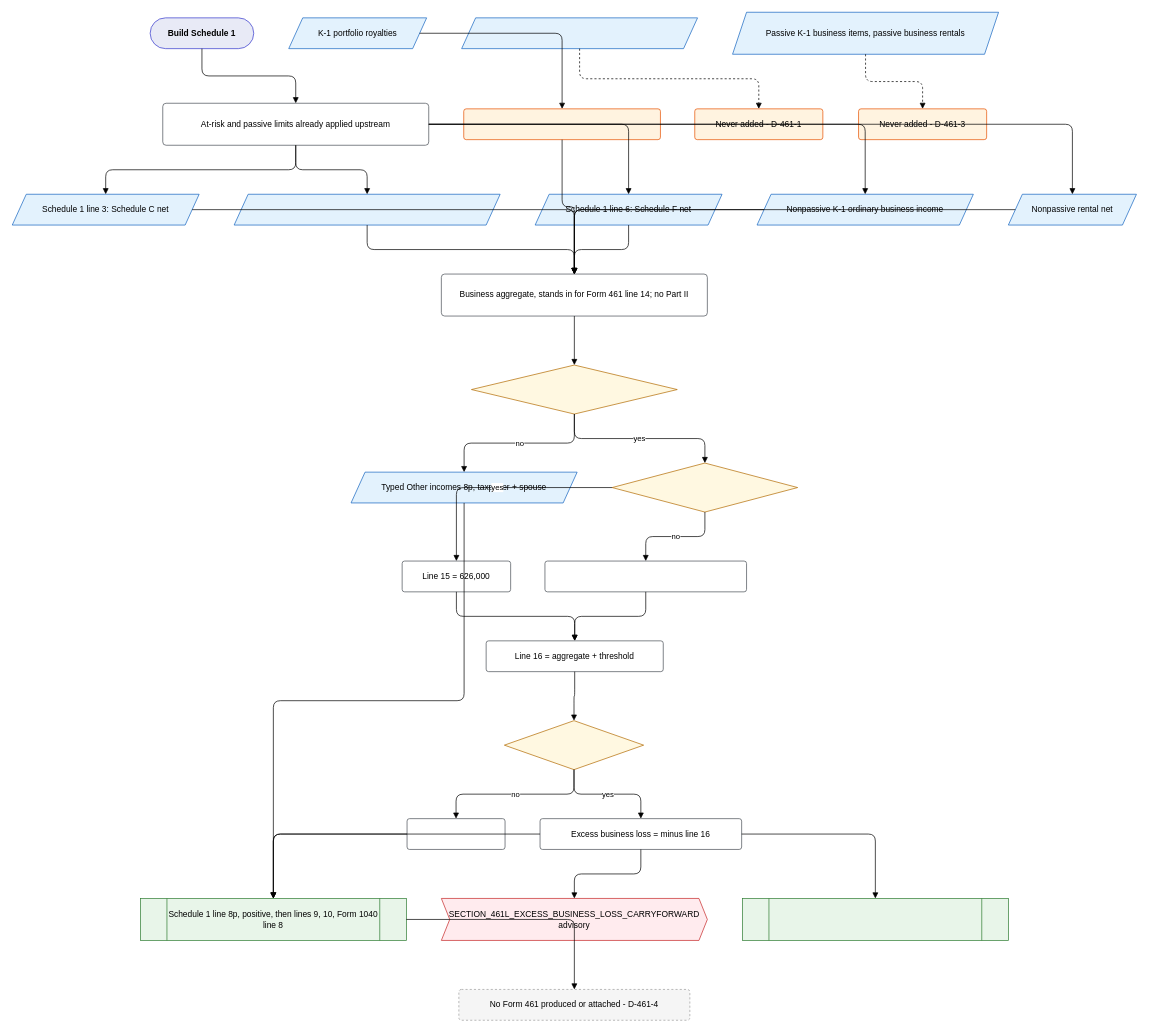
The diagram is 1149 pixels wide and 1033 high, and some of its shapes have lost their labels. The centre of each missing label's shape, as x and y in pixels:
"Added with the K-1 amount - D-461-2" goes at point (561, 124).
"Any business item present?" goes at point (574, 389).
"Form 1040 line 7a incl. business 1231 gains" goes at point (579, 33).
"Form 172: added to nolCarryforwardToNextYear, next year's line 8a" goes at point (875, 919).
"Line 15 = 313,000, incl. MFS and QSS" goes at point (645, 576).
"Line 16 below 0?" goes at point (574, 745).
"Line 8p = 0" goes at point (455, 833).
"Married filing jointly?" goes at point (704, 487).
"Schedule 1 line 4: Form 4797 ordinary, other gains" goes at point (366, 209).
